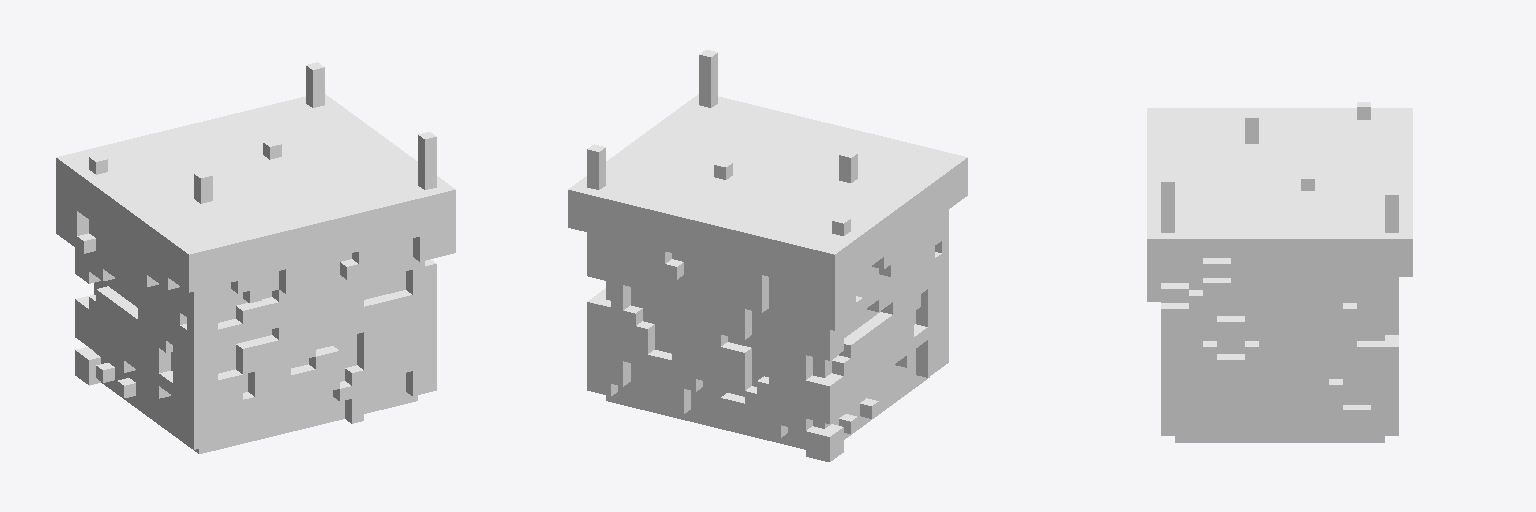
Rendered from Grn1.obj.
3 renders of one model, left to right at view 1: azimuth 30°, elevation 25°; view 2: azimuth 150°, elevation 25°; view 3: azimuth 270°, elevation 25°, orthographic.
Parts seen in each view (by area): view 1: Grn1; view 2: Grn1; view 3: Grn1.
Part boxes in pixels (x1,y1,x2,y2): Grn1: (56,62,455,453); Grn1: (568,50,967,461); Grn1: (1147,102,1412,442).
Bounding box in the file's own units: 22 × 21 × 19.